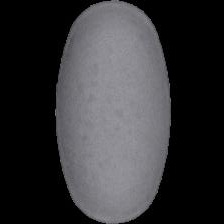55154-2359: (0, 0, 224, 224)
